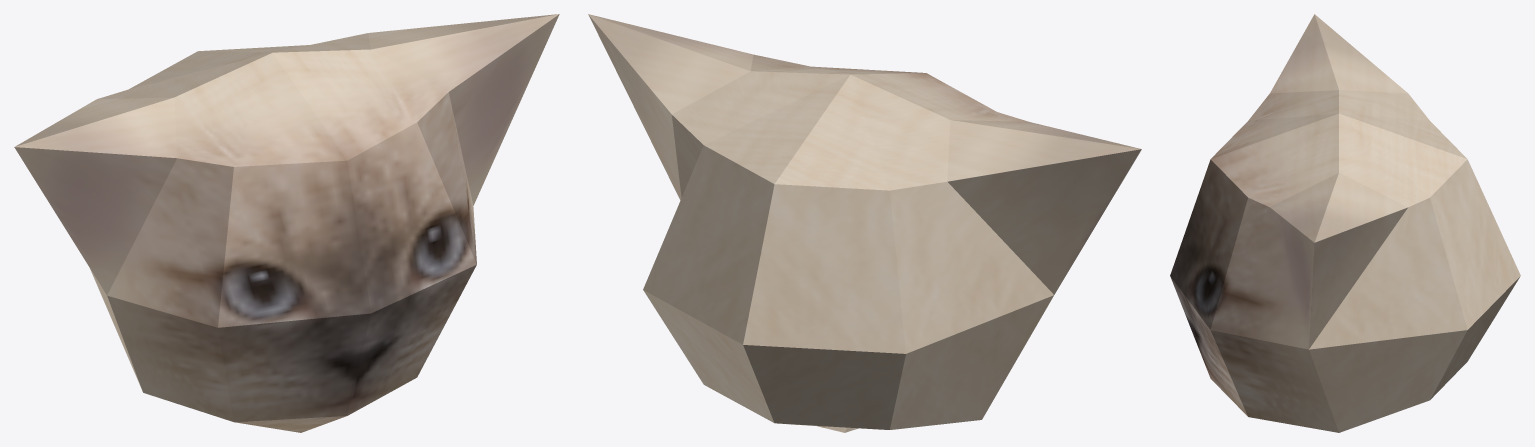
Rendered from CATS_head_only.fbx.
The picture shows the model from 3 angles, left to right: view 1: azimuth 30°, elevation 25°; view 2: azimuth 150°, elevation 25°; view 3: azimuth 270°, elevation 25°; orthographic projection. The views are drawn at different scales.
Parts seen in each view (by area): view 1: Sphere.001; view 2: Sphere.001; view 3: Sphere.001.
Part boxes in pixels (bbox=[...]): Sphere.001: bbox=[14, 14, 559, 432]; Sphere.001: bbox=[588, 14, 1141, 432]; Sphere.001: bbox=[1170, 14, 1520, 432].
Bounding box in the file's own units: 298 × 188 × 193.
1 material, 1 textured.
